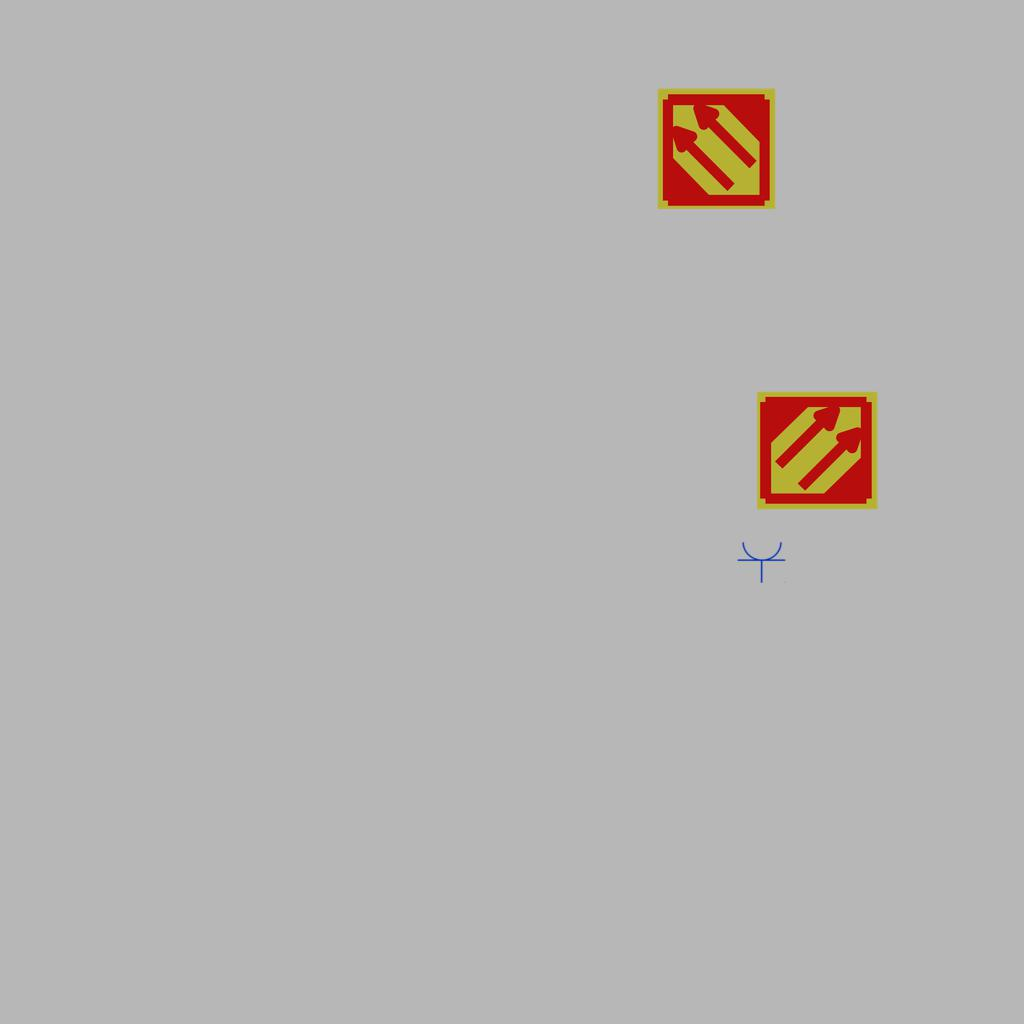ASR_Ansaugrauchmelder: (654, 86, 779, 211), (755, 388, 880, 513)
Schukosteckdose_einfach: (737, 540, 787, 583)
